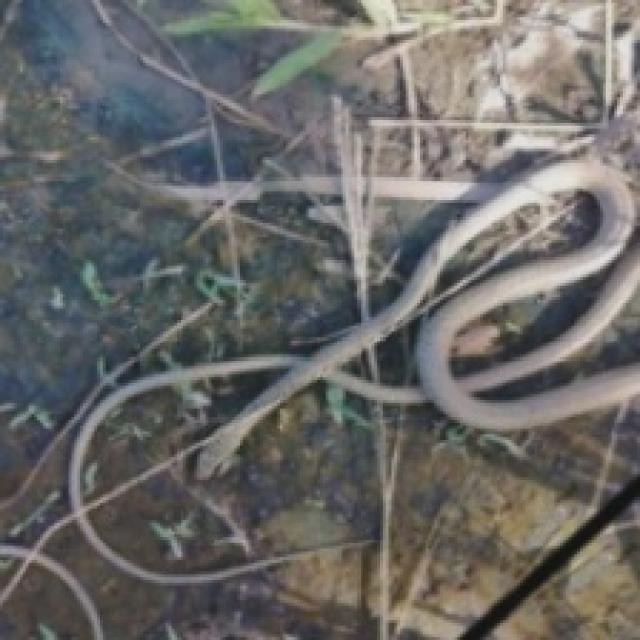paradise tree snake: (0, 0, 637, 637), (494, 503, 637, 637)
